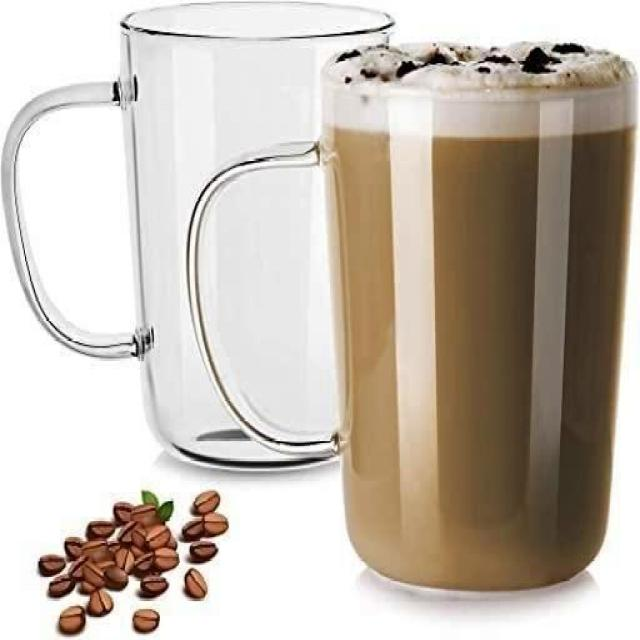glass-mug: (182, 34, 640, 608), (0, 0, 400, 482)
